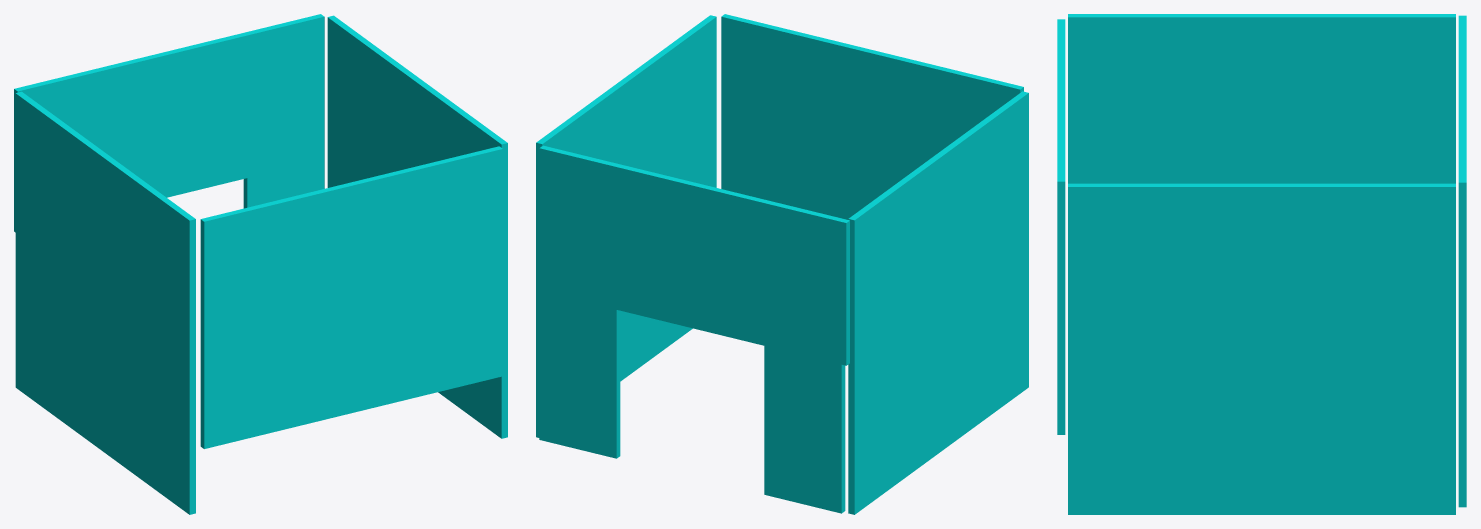
Rendered from SM_Prop_Ticket_Booth_01_Glass_01_Collision.fbx.
The picture shows the model from 3 angles, left to right: view 1: azimuth 30°, elevation 25°; view 2: azimuth 150°, elevation 25°; view 3: azimuth 270°, elevation 25°; orthographic projection. The views are drawn at different scales.
Visible parts, largest first — view 1: SM_Prop_Ticket_Booth_01_Glass_01_Collision; view 2: SM_Prop_Ticket_Booth_01_Glass_01_Collision; view 3: SM_Prop_Ticket_Booth_01_Glass_01_Collision.
Boxes of the visible parts, box(x1,y1,x2,y2) form: SM_Prop_Ticket_Booth_01_Glass_01_Collision: box(14, 14, 507, 514); SM_Prop_Ticket_Booth_01_Glass_01_Collision: box(536, 14, 1028, 514); SM_Prop_Ticket_Booth_01_Glass_01_Collision: box(1057, 14, 1466, 514).
Bounding box in the file's own units: 237 × 210 × 237.
